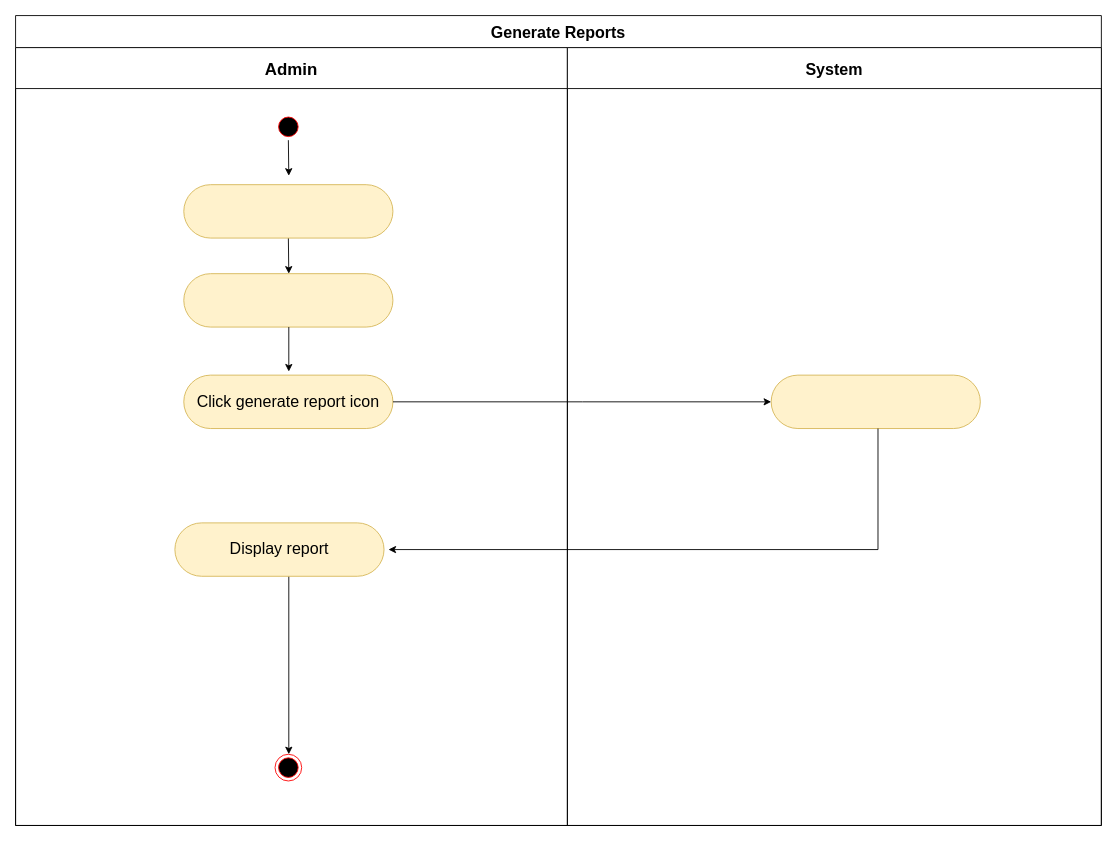
The diagram is 1117 pixels wide and 841 high, and some of its shapes have lost their labels. The centre of each missing label's shape, as x and y in pixels:
"Generate report" belongs at point 875,401.
"Navigate to the report generate section" belongs at point 288,211.
"Select report type" belongs at point 288,300.
